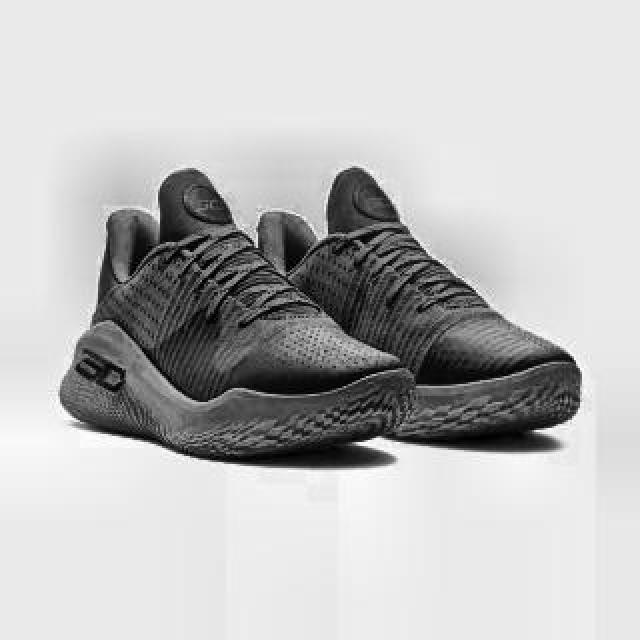shoe: (61, 167, 419, 459), (235, 169, 583, 437)
